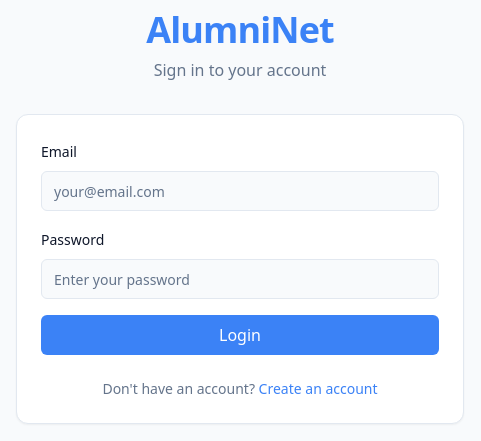
Scenario: Login component › Form submission › disables the submit button while loading
Type "bob@test.com" into the field with placeholder "your@email.com" at (240, 191), box [41,171,439,211]
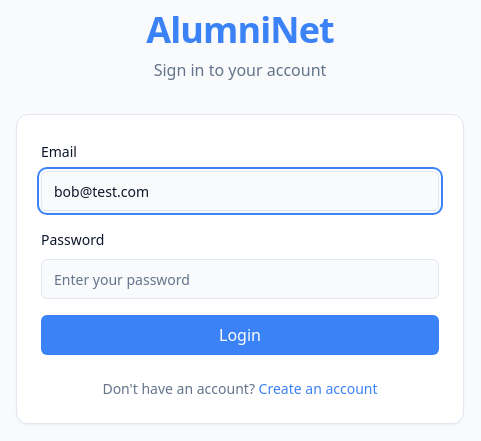
Type "Pass1234!" into the password field with placeholder "Enter your password" at (240, 279), box [41,259,439,299]
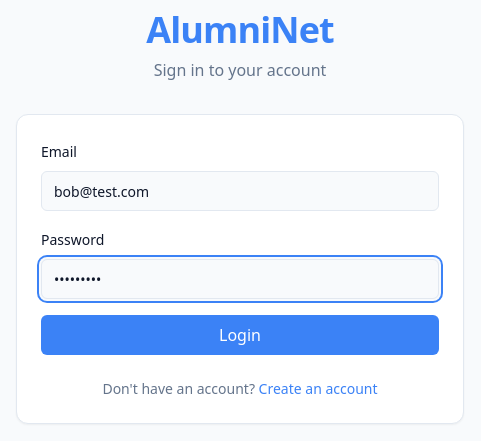
Submit the form from the button "Login", box [41,315,439,355]
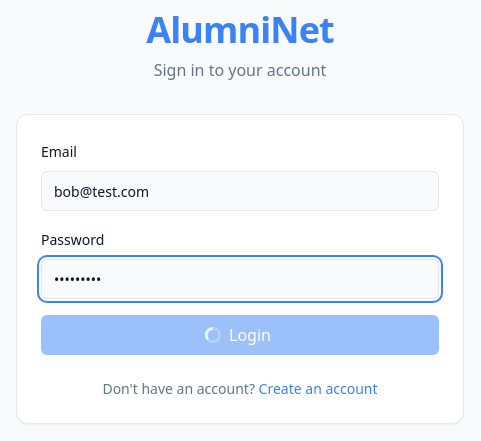
Result: the button "Login" is disabled at [41,315,439,355]
